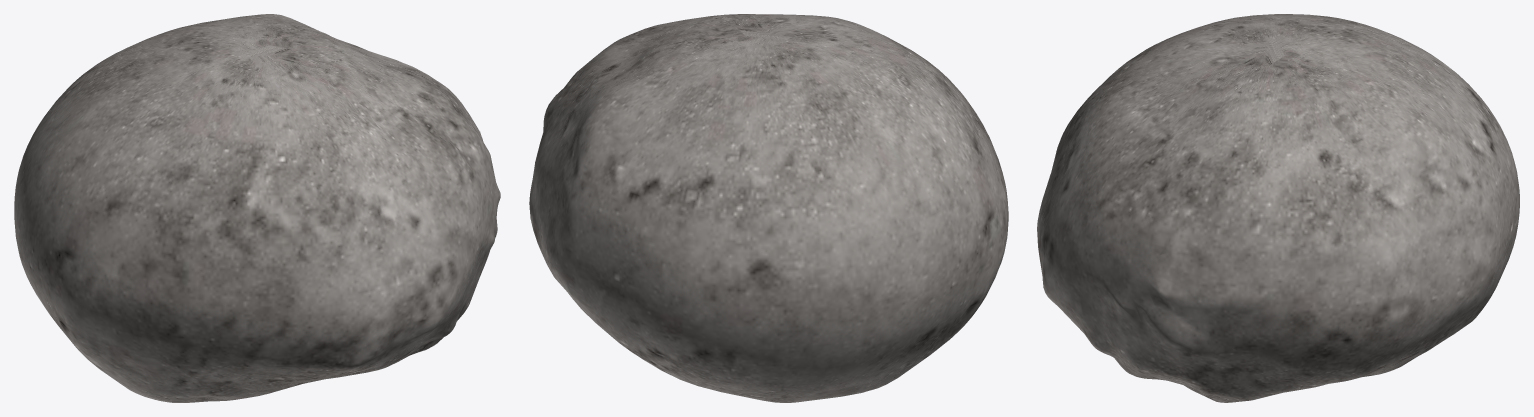
File: didymos-low.glb
The picture shows the model from 3 angles, left to right: view 1: azimuth 30°, elevation 25°; view 2: azimuth 150°, elevation 25°; view 3: azimuth 270°, elevation 25°; orthographic projection. The views are drawn at different scales.
Visible parts, largest first — view 1: didymos; view 2: didymos; view 3: didymos.
Boxes of the visible parts, x1,y1,x2,y2 form: didymos: [14, 14, 500, 402]; didymos: [529, 14, 1008, 402]; didymos: [1037, 14, 1519, 402].
Size of the model in its own units: 0.8185 by 0.6053 by 0.8013.
Materials: 1 (1 with a texture image).
